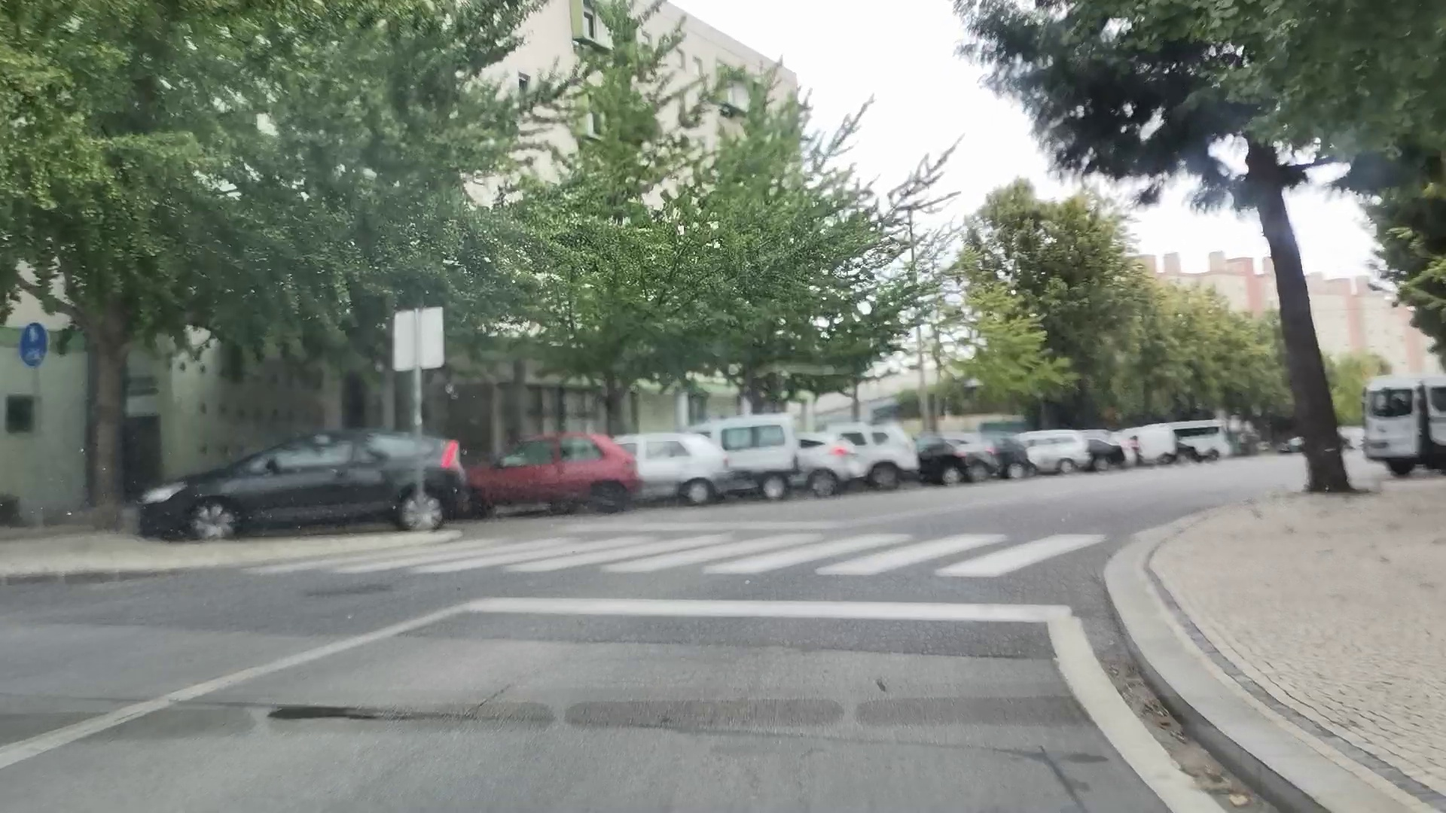Stairs: (249, 526, 1107, 580)
